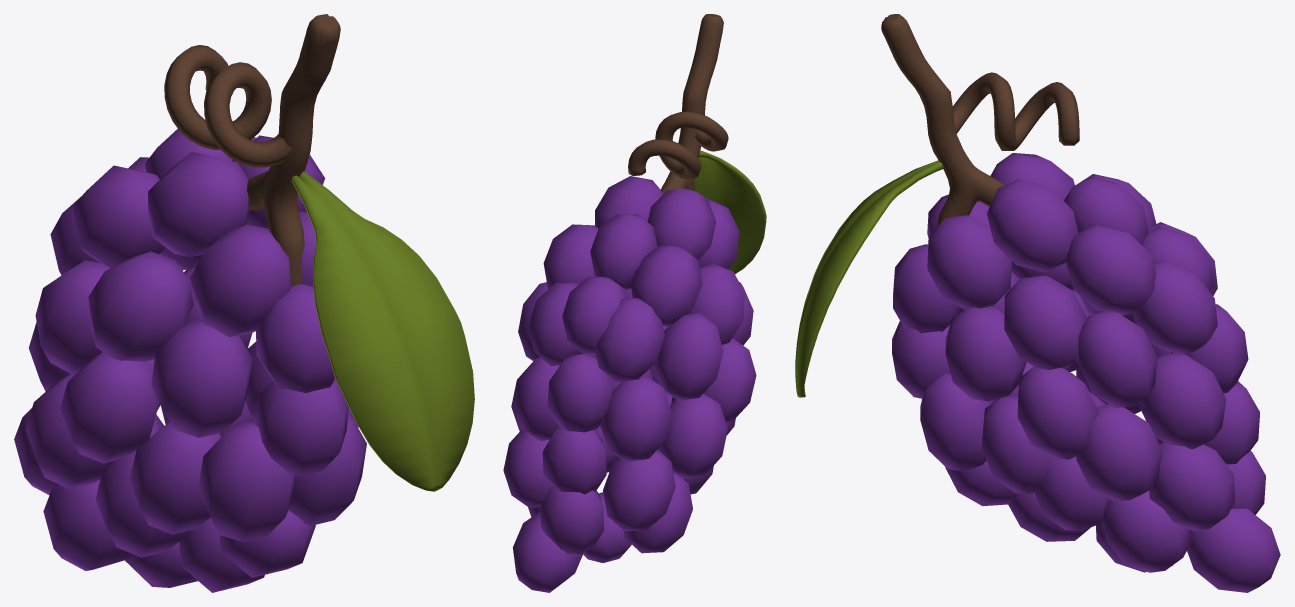
File: uvas.fbx
3 renders of one model, left to right at view 1: azimuth 30°, elevation 25°; view 2: azimuth 150°, elevation 25°; view 3: azimuth 270°, elevation 25°, orthographic. The views are drawn at different scales.
Visible parts, largest first — view 1: uvas; view 2: uvas; view 3: uvas.
Part boxes in pixels (x1,y1,x2,y2): uvas: (14, 14, 474, 592); uvas: (503, 14, 766, 592); uvas: (795, 14, 1280, 592).
Bounding box in the file's own units: 219 × 474 × 373.
